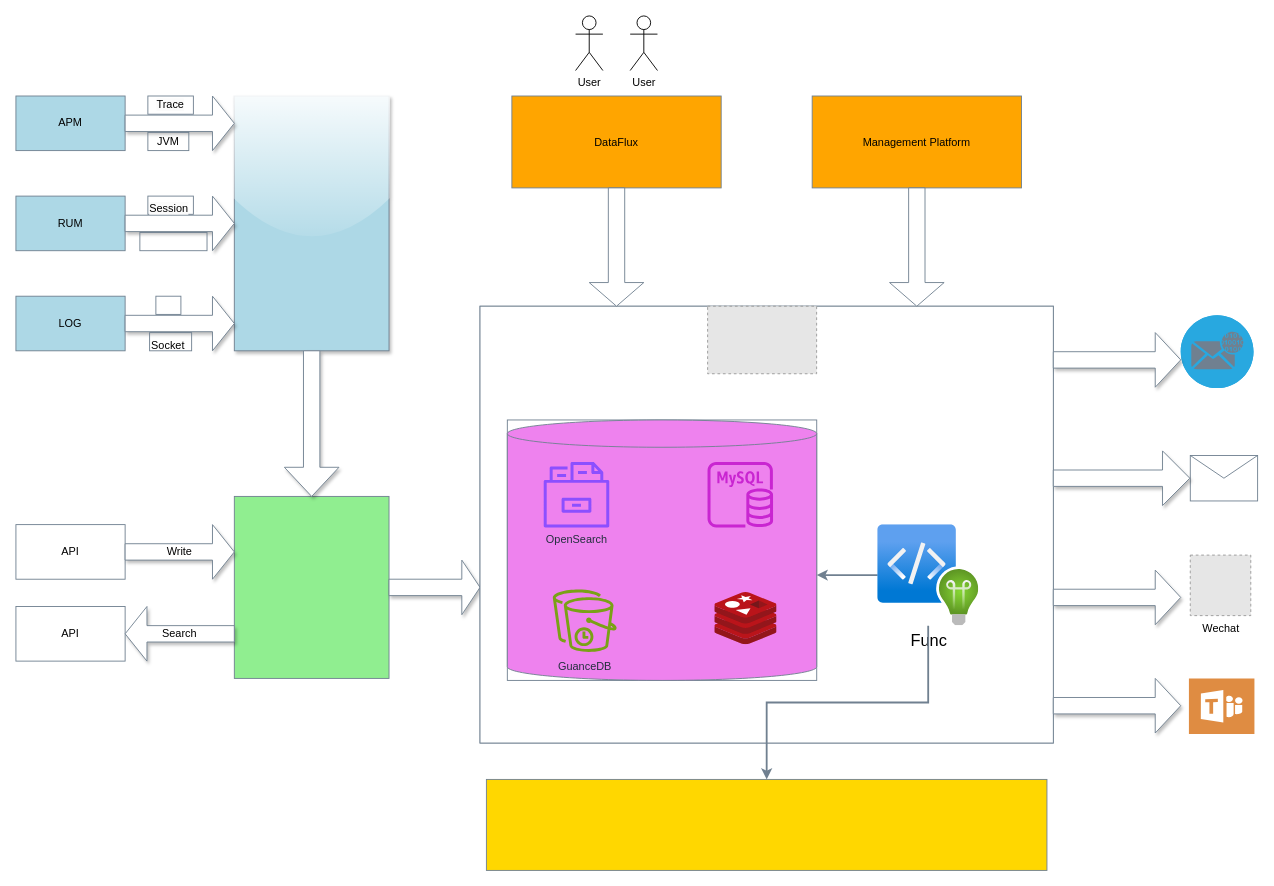
Image size: 1274x886. Some labels were removed from this diagram. Grey dashed boxes stand in for pictures. The centre of each missing label's shape, as x and y in pixels:
"DataKit" belongs at [312,224].
"DataWay" belongs at [311,586].
"Email" belongs at [1217,351].
"File" belongs at [168,304].
"MySQL" belongs at [740,494].
"Redis" belongs at [745,618].
"SelectDB" belongs at [766,824].
"Teams" belongs at [1221,705].
"Text message" belongs at [1223,478].
"User operation" belongs at [173,241].
